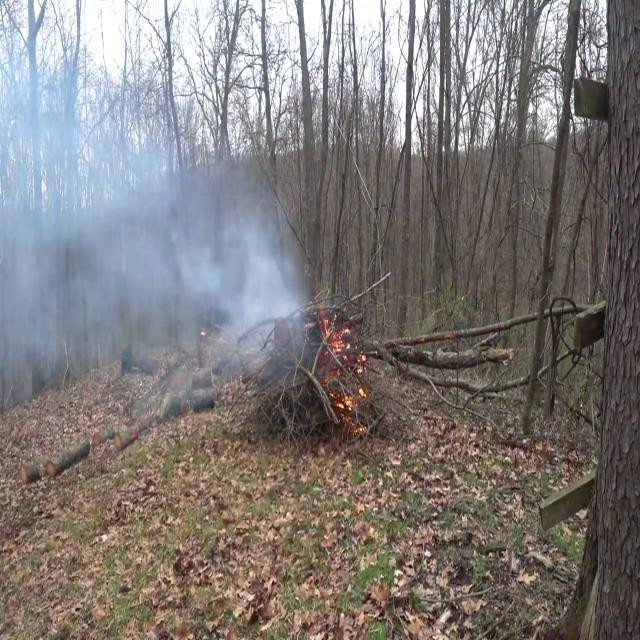Smoke: (2, 89, 314, 416)
